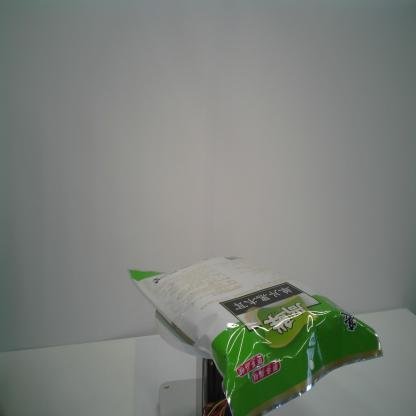Dried Food: (126, 251, 385, 415)
